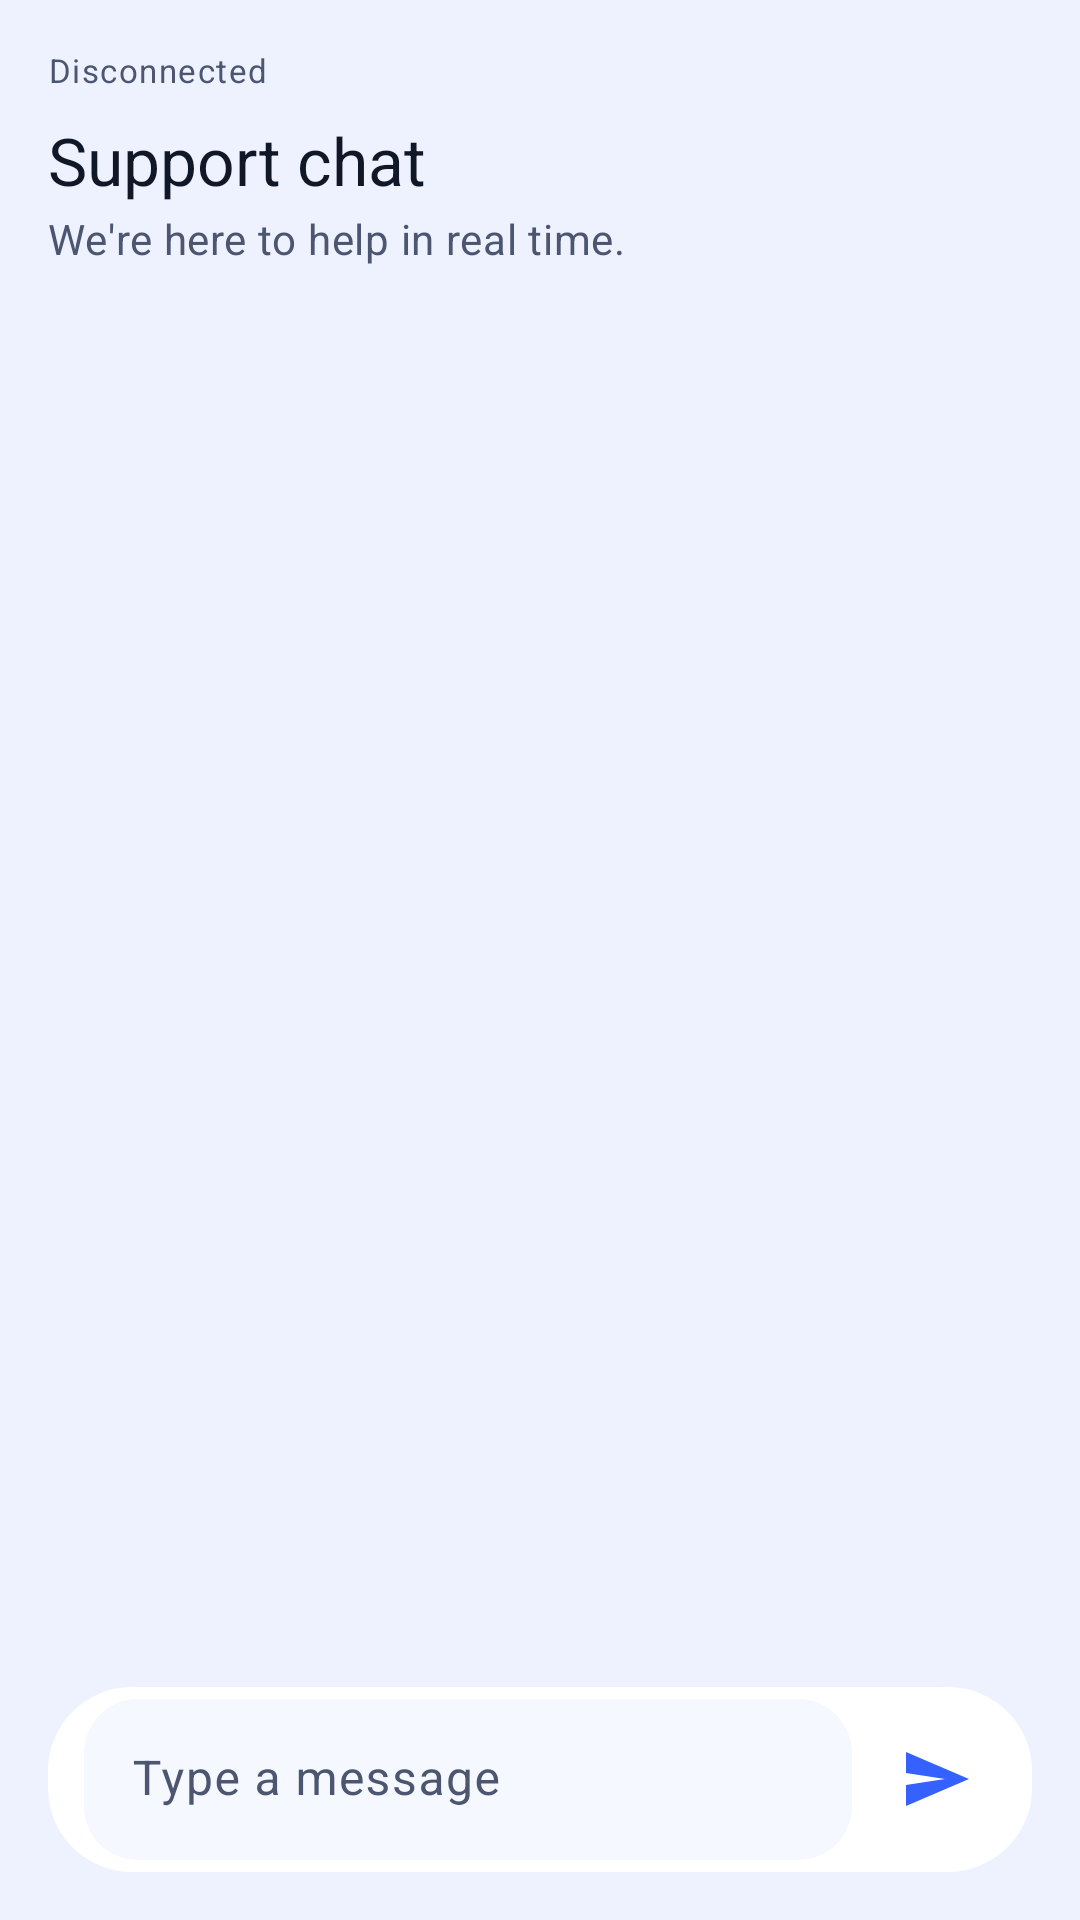

Screen size 1080px×1920px. Icon name, then its box in pixels as (x1, y1, x2, y2):
Send message: (906, 1752, 969, 1806)
